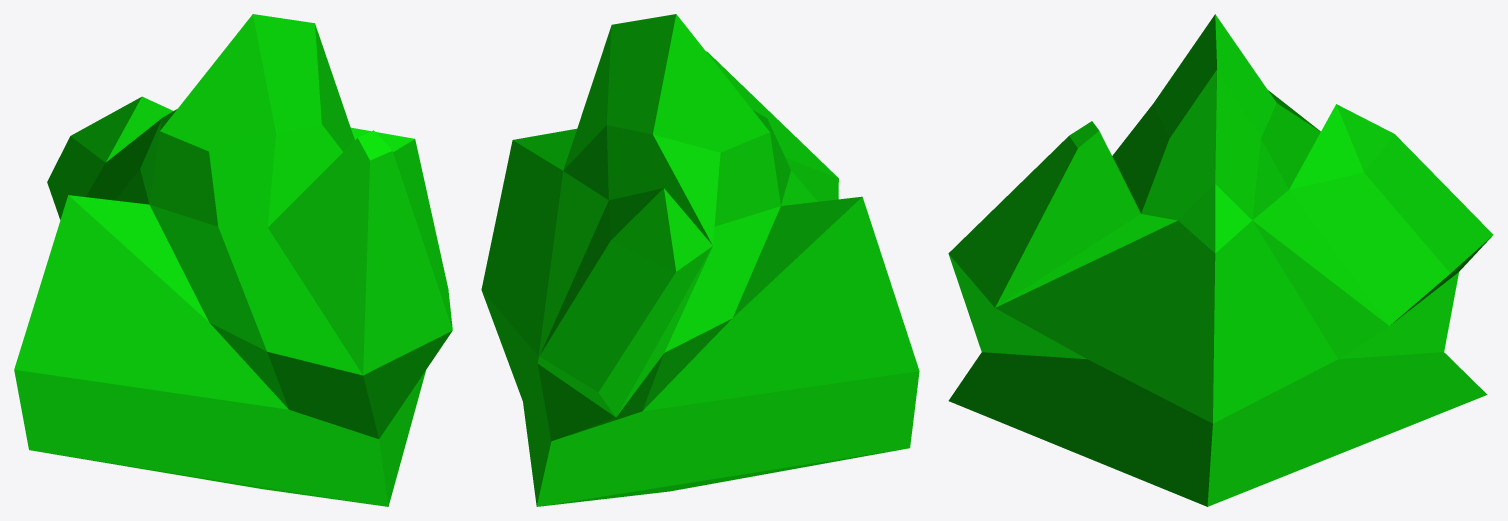
The model's file is iceberg2.fbx.
3 views of the same model, side by side, from view 1: azimuth 30°, elevation 25°; view 2: azimuth 150°, elevation 25°; view 3: azimuth 270°, elevation 25° (orthographic). The views are drawn at different scales.
Visible parts, largest first — view 1: iceberg2; view 2: iceberg2; view 3: iceberg2.
Part boxes in pixels (box(x1,y1,x2,y2)): iceberg2: box(14, 14, 452, 506); iceberg2: box(481, 14, 919, 506); iceberg2: box(948, 14, 1493, 506).
Size of the model in its own units: 11.31 by 11.85 by 12.51.
